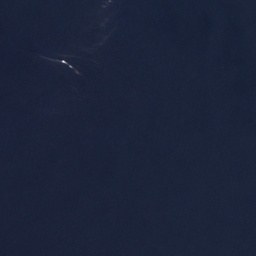Marine Debris: (40, 56, 79, 74), (103, 0, 114, 9)
